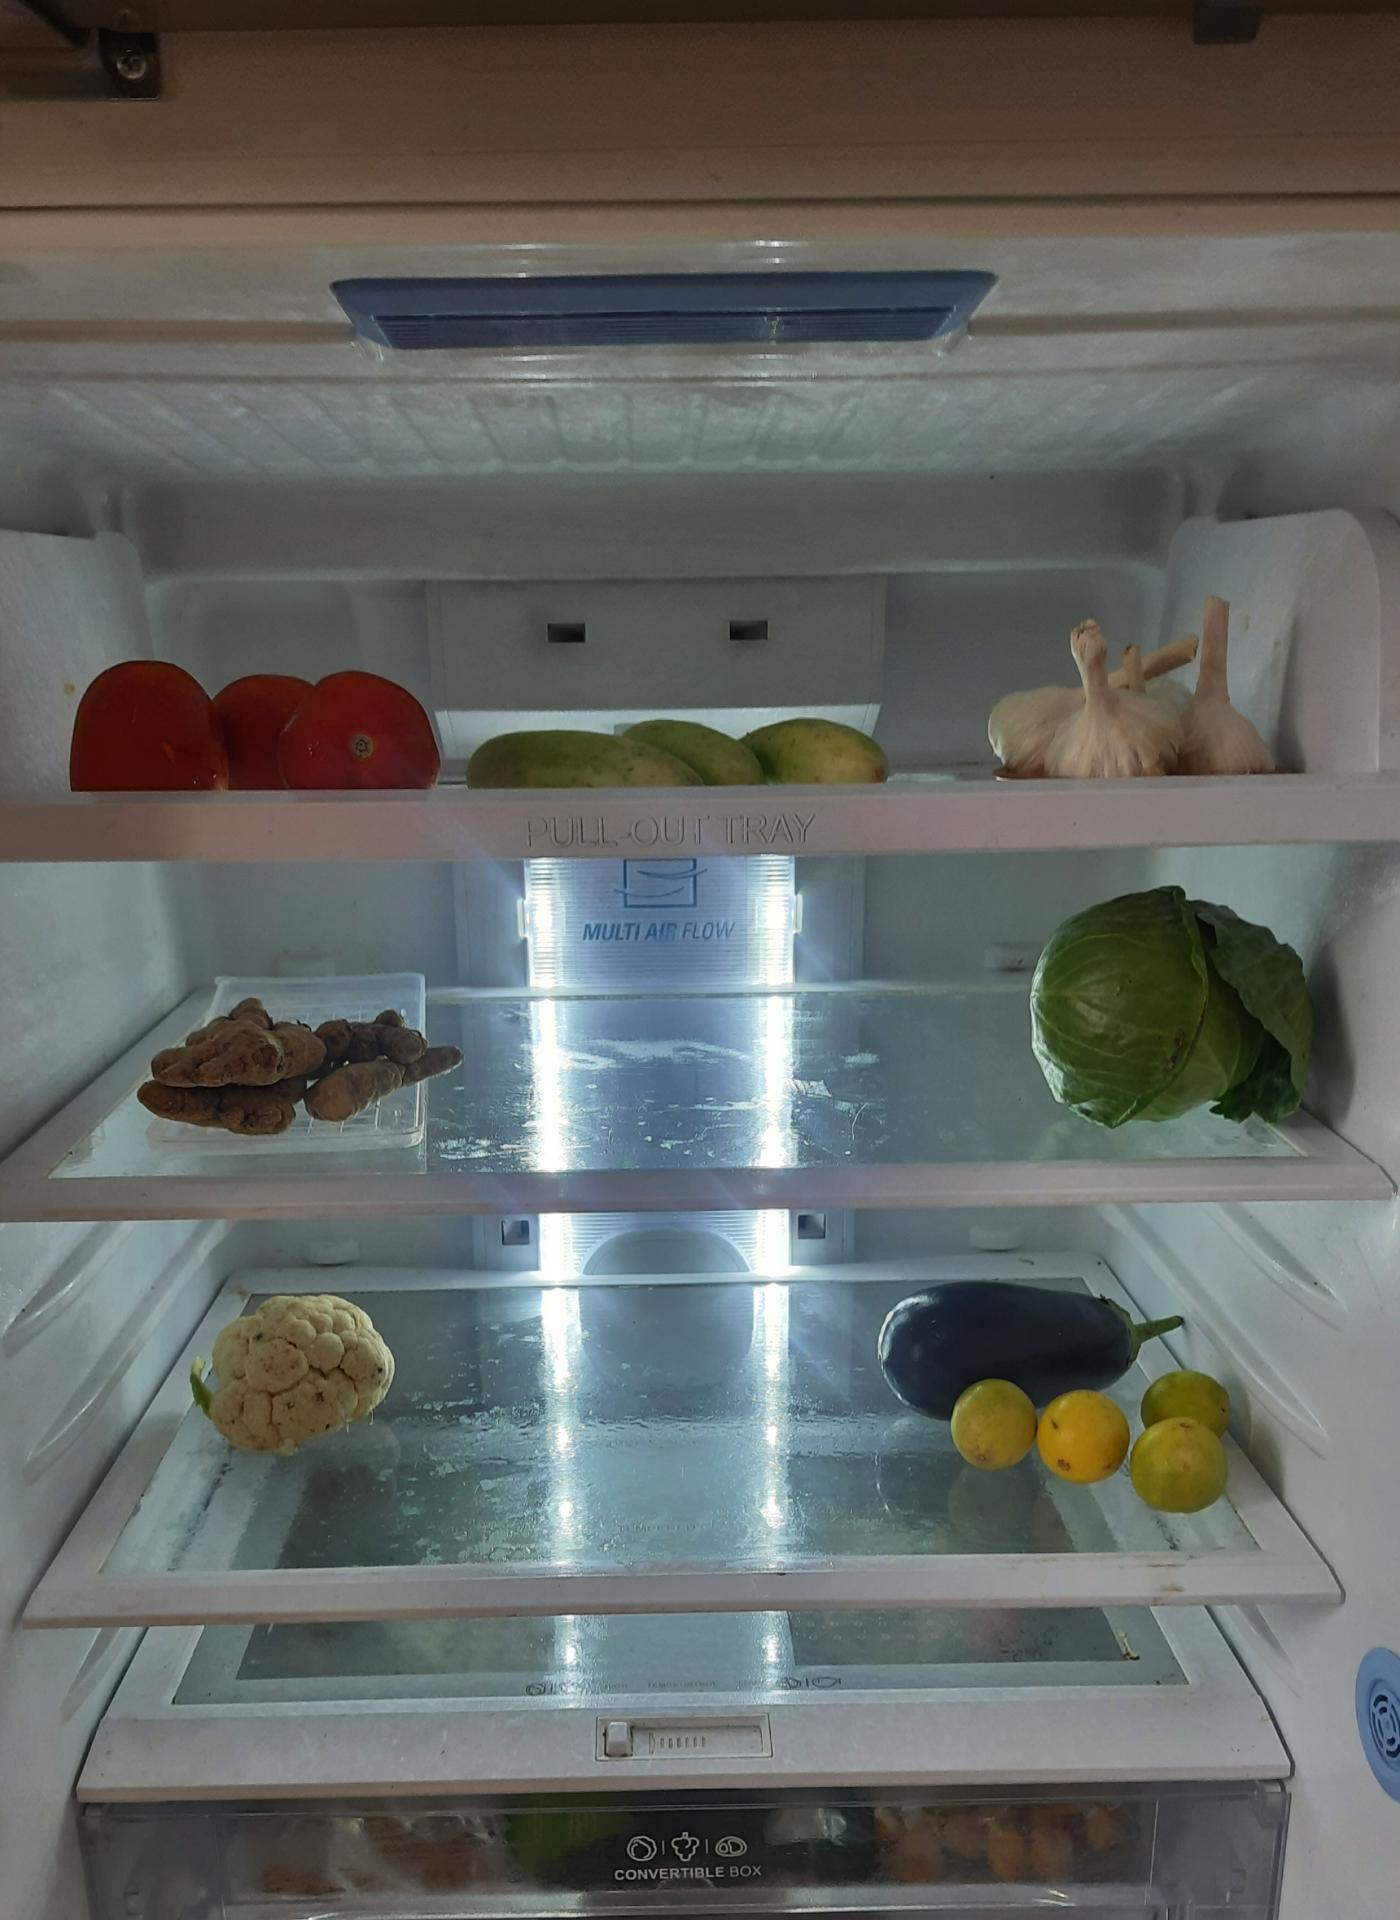brinjal: (866, 1278, 1199, 1403)
cabbage: (1021, 878, 1317, 1136)
cauliflower: (189, 1286, 397, 1458)
cucumber: (492, 696, 898, 778)
garlic: (986, 598, 1273, 795)
ginger: (140, 997, 453, 1133)
lemon: (941, 1367, 1232, 1522)
tomato: (79, 650, 443, 784)
